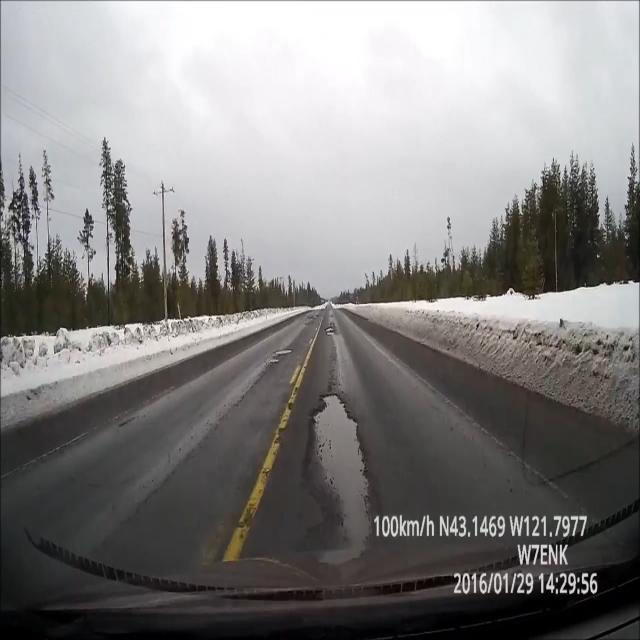Pothole: (304, 388, 372, 582), (266, 344, 292, 366), (325, 309, 336, 336)
